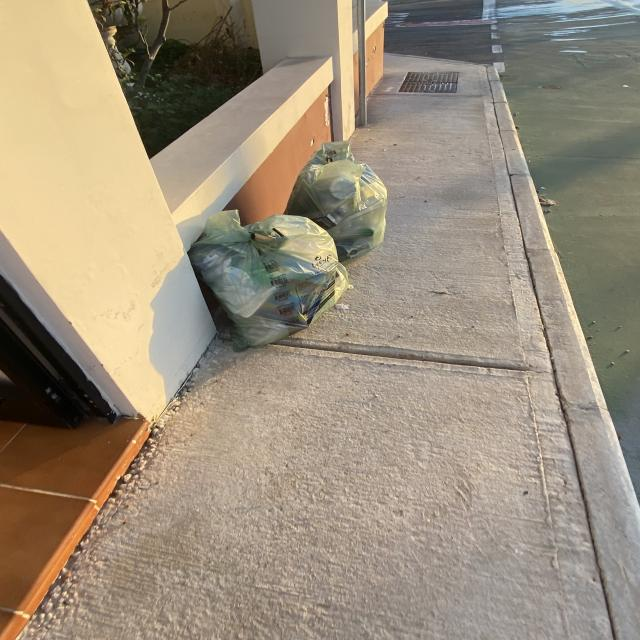Recyclable Material: (201, 209, 339, 350), (289, 143, 391, 262)
